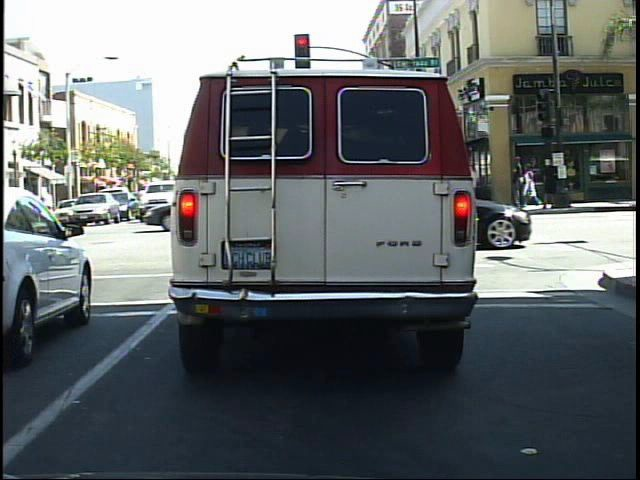person: (536, 154, 563, 215), (516, 157, 541, 214), (510, 151, 530, 209), (522, 160, 542, 212)
